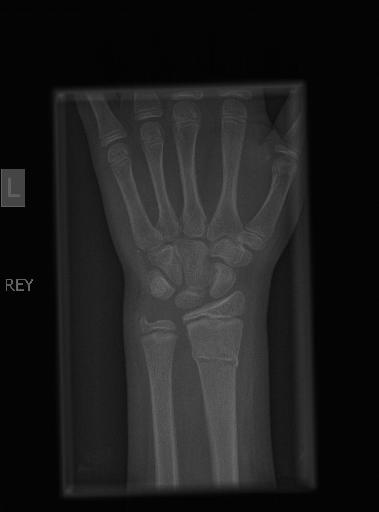fractured: (185, 342, 247, 374)
